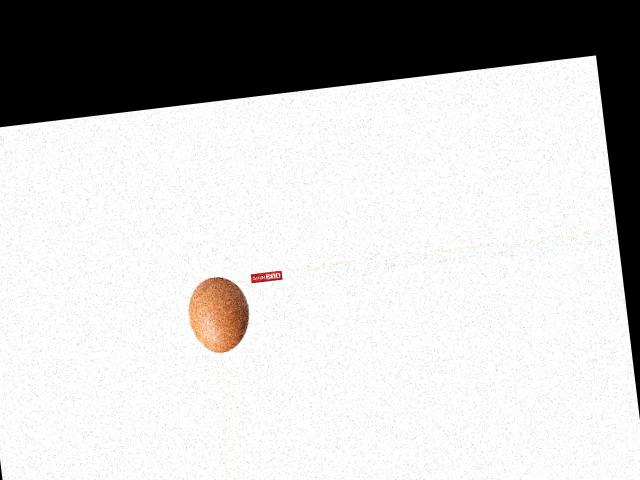egg: (184, 274, 252, 354)
